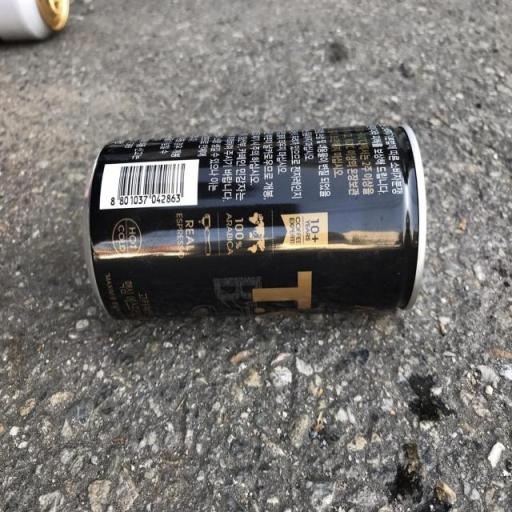metal: (36, 100, 470, 358)
